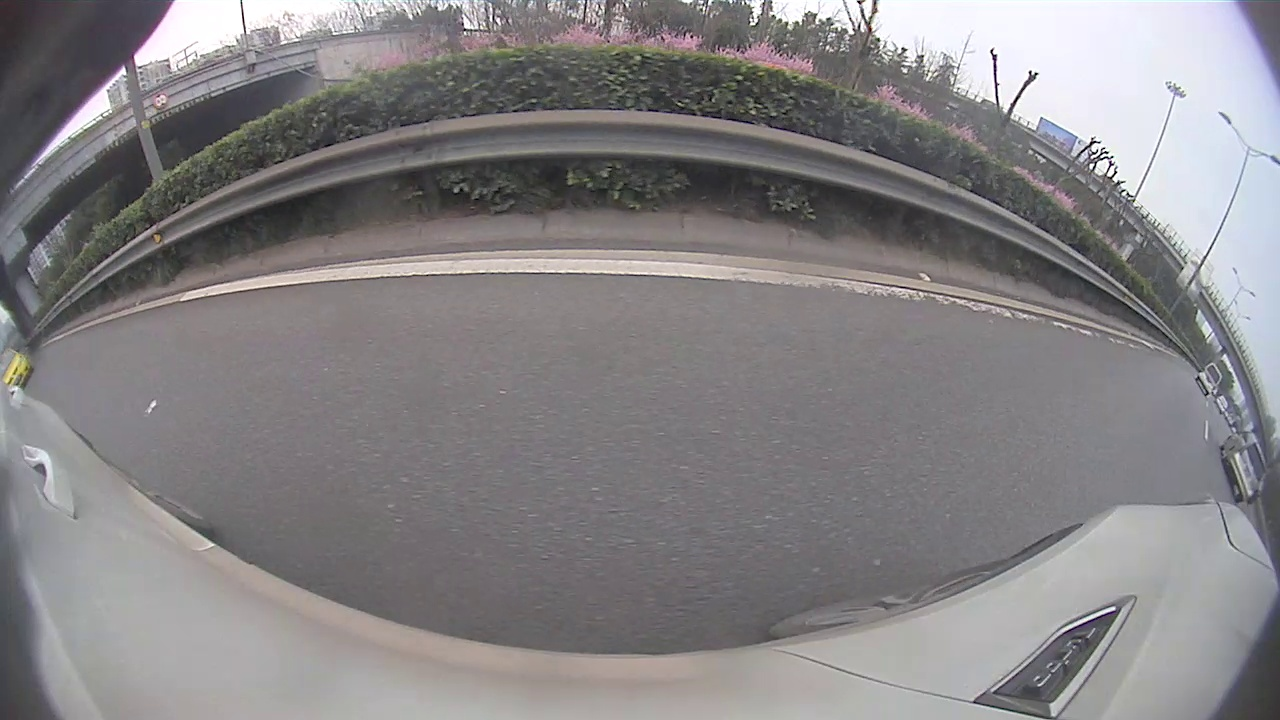car: (1222, 431, 1265, 505), (1, 348, 33, 386), (1197, 363, 1224, 394)
